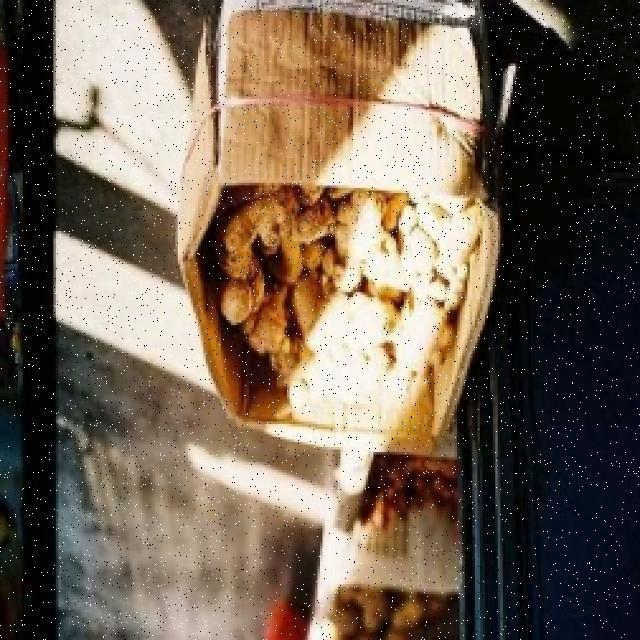box: (172, 27, 492, 438)
